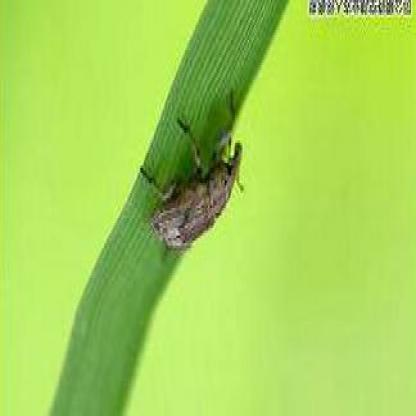rice-bug: (147, 106, 247, 254)
